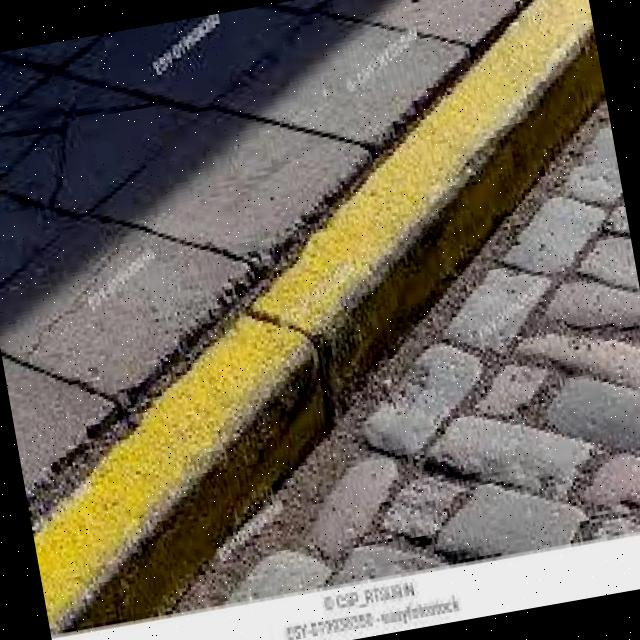curb: (231, 86, 506, 429), (409, 1, 620, 237)
